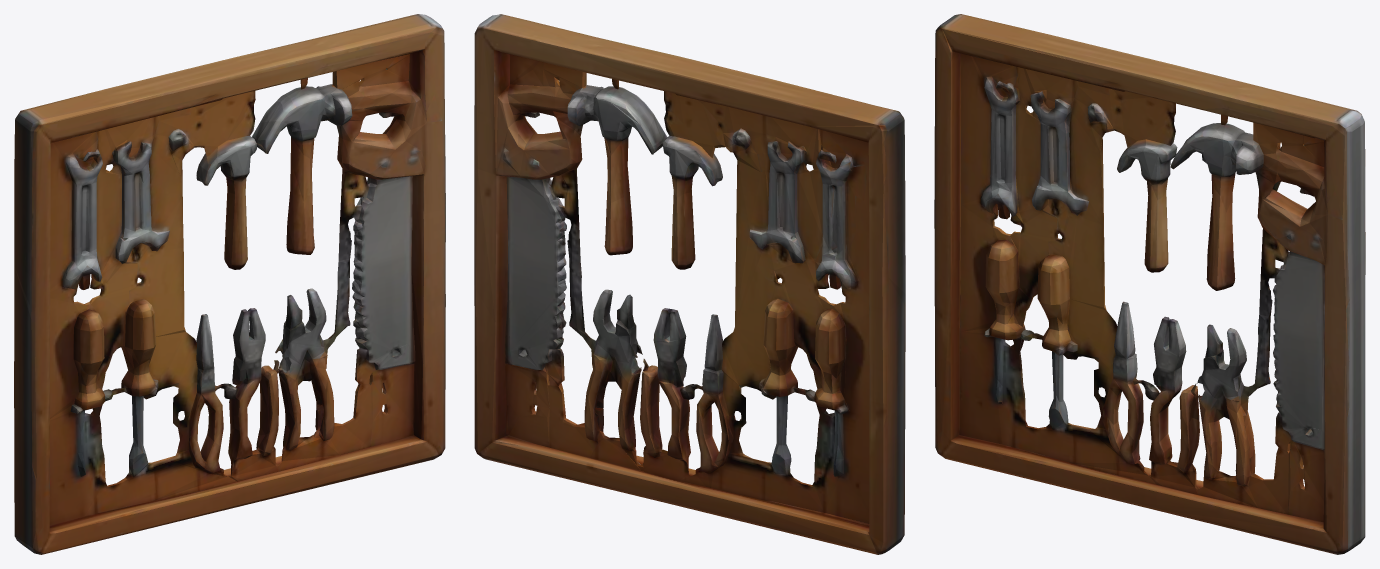
The model's file is pegboard.glb.
3 renders of one model, left to right at view 1: azimuth 30°, elevation 25°; view 2: azimuth 150°, elevation 25°; view 3: azimuth 330°, elevation 25°, orthographic.
Visible parts, largest first — view 1: geometry_0; view 2: geometry_0; view 3: geometry_0.
Part boxes in pixels (bbox=[...]): geometry_0: bbox=[14, 14, 445, 554]; geometry_0: bbox=[474, 14, 905, 554]; geometry_0: bbox=[934, 14, 1365, 554].
Bounding box in the file's own units: 0.9989 × 0.9971 × 0.1176.
1 material, 1 textured.
